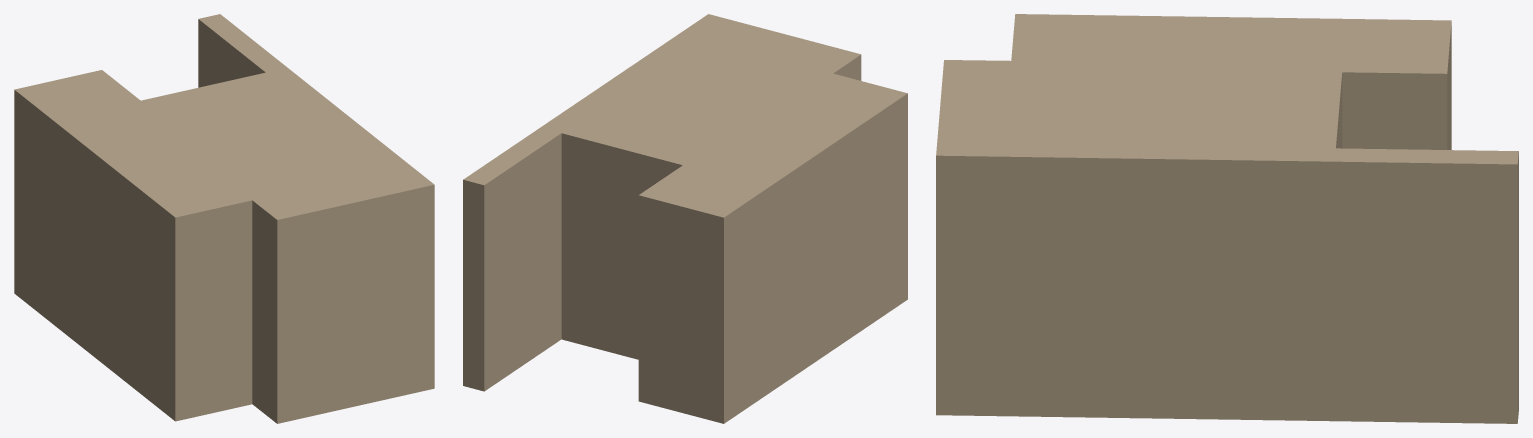
The model's file is bld_106415387.dae.
3 views of the same model, side by side, from view 1: azimuth 30°, elevation 25°; view 2: azimuth 150°, elevation 25°; view 3: azimuth 270°, elevation 25° (orthographic). The views are drawn at different scales.
Parts seen in each view (by area): view 1: bld_106415387; view 2: bld_106415387; view 3: bld_106415387.
Boxes of the visible parts, x1,y1,x2,y2 form: bld_106415387: (14,14,434,423); bld_106415387: (463,14,907,423); bld_106415387: (936,14,1518,423).
Size of the model in its own units: 9.95 by 16.28 by 8.
